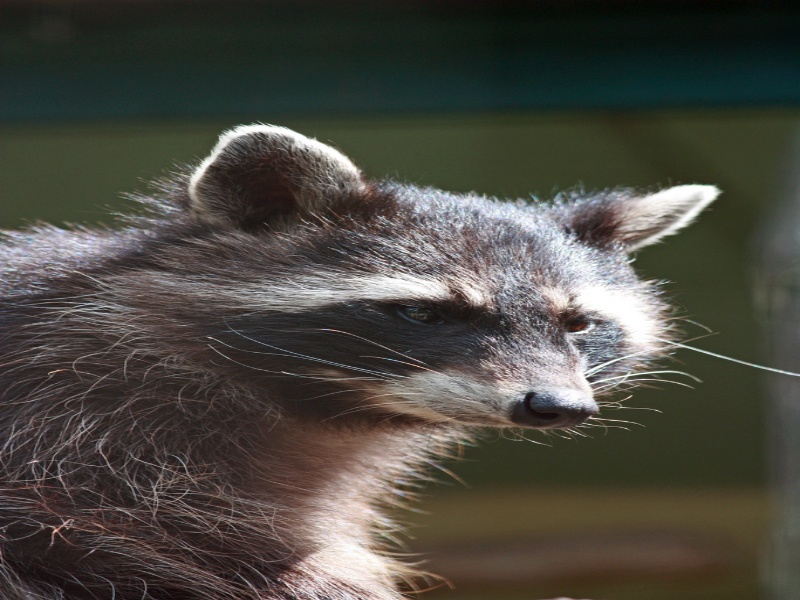raccoon: (6, 118, 727, 600)
